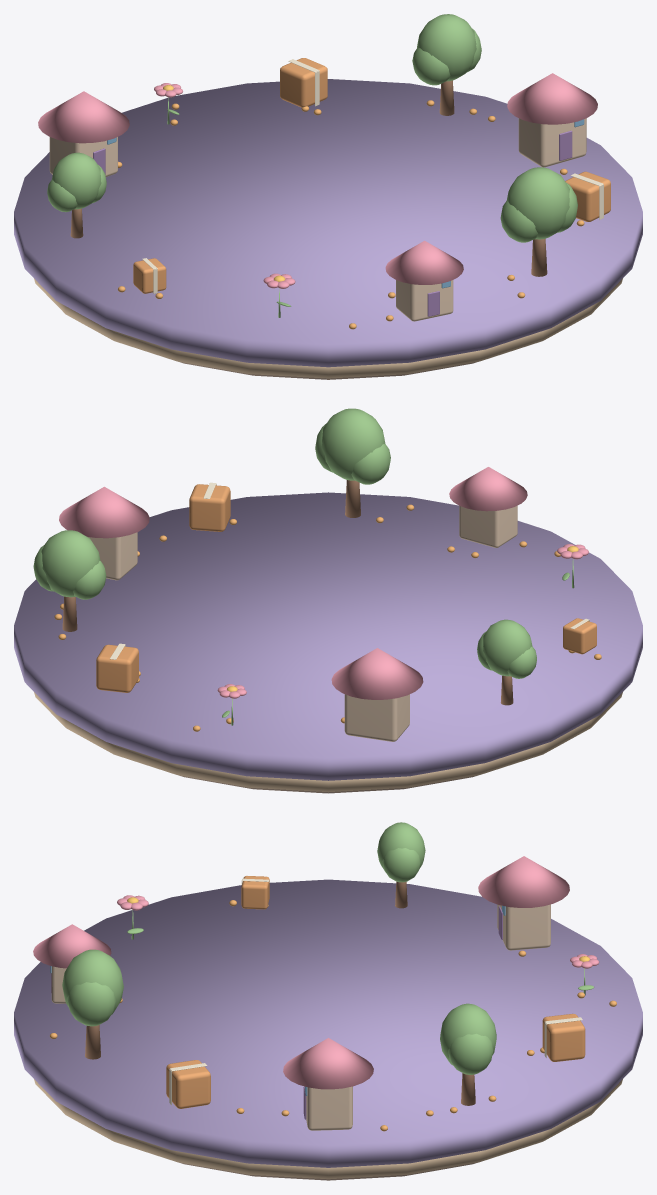
File: world.glb
The picture shows the model from 3 angles, top to bottom: view 1: azimuth 30°, elevation 25°; view 2: azimuth 150°, elevation 25°; view 3: azimuth 270°, elevation 25°; orthographic projection.
Parts seen in each view (by area): view 1: Cone, Cone.001, house.001, tree.003, house.002, house.003, tree.001, tree.002, parcel.001, parcel.003, parcel.002, Cone.002; view 2: Cone, Cone.001, house.002, tree.003, house.001, tree.001, house.003, tree.002, parcel.001, parcel.003, parcel.002; view 3: Cone, Cone.001, house.002, house.001, tree.003, tree.001, tree.002, house.003, parcel.003, parcel.001, parcel.002, Cone.002 (+1 smaller).
Boxes of the visible parts, bbox=[...] form: Cone: bbox=[14, 79, 642, 367]; Cone.001: bbox=[34, 278, 622, 378]; house.001: bbox=[507, 73, 597, 167]; tree.003: bbox=[500, 167, 577, 276]; house.002: bbox=[38, 91, 129, 176]; house.003: bbox=[385, 240, 463, 321]; tree.001: bbox=[412, 14, 481, 115]; tree.002: bbox=[47, 152, 106, 238]; parcel.001: bbox=[280, 58, 327, 107]; parcel.003: bbox=[565, 171, 610, 221]; parcel.002: bbox=[133, 258, 166, 293]; Cone.002: bbox=[178, 361, 478, 379]; Cone: bbox=[14, 492, 642, 780]; Cone.001: bbox=[34, 692, 622, 792]; house.002: bbox=[331, 648, 423, 741]; tree.003: bbox=[315, 408, 390, 517]; house.001: bbox=[59, 486, 149, 580]; tree.001: bbox=[33, 530, 106, 631]; house.003: bbox=[449, 467, 527, 547]; tree.002: bbox=[477, 619, 536, 705]; parcel.001: bbox=[96, 643, 138, 692]; parcel.003: bbox=[189, 482, 230, 531]; parcel.002: bbox=[563, 618, 596, 654]; Cone: bbox=[14, 879, 642, 1167]; Cone.001: bbox=[34, 1079, 622, 1179]; house.002: bbox=[478, 856, 569, 950]; house.001: bbox=[283, 1038, 373, 1130]; tree.003: bbox=[62, 949, 123, 1059]; tree.001: bbox=[440, 1003, 496, 1105]; tree.002: bbox=[377, 822, 425, 908]; house.003: bbox=[33, 924, 111, 1003]; parcel.003: bbox=[166, 1060, 210, 1108]; parcel.001: bbox=[542, 1013, 585, 1061]; parcel.002: bbox=[241, 876, 269, 909]; Cone.002: bbox=[178, 1162, 478, 1180].
Bounding box in the file's own units: 9.6 × 2.55 × 9.6.
